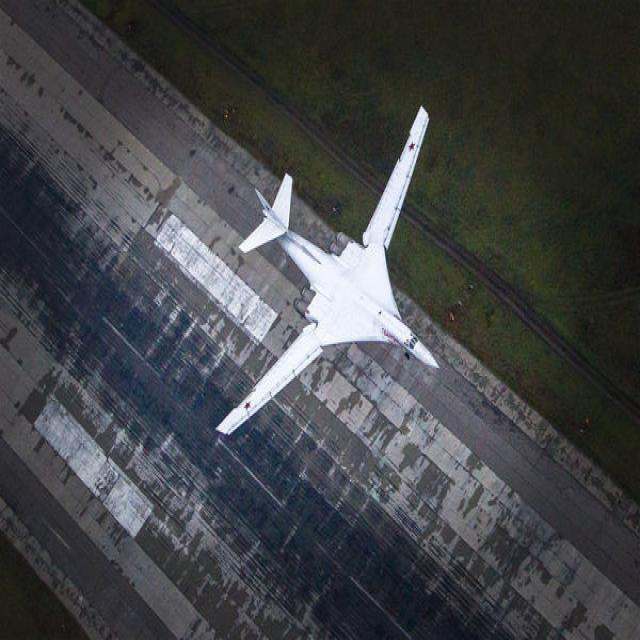MIL_Plane: (214, 104, 440, 437)
